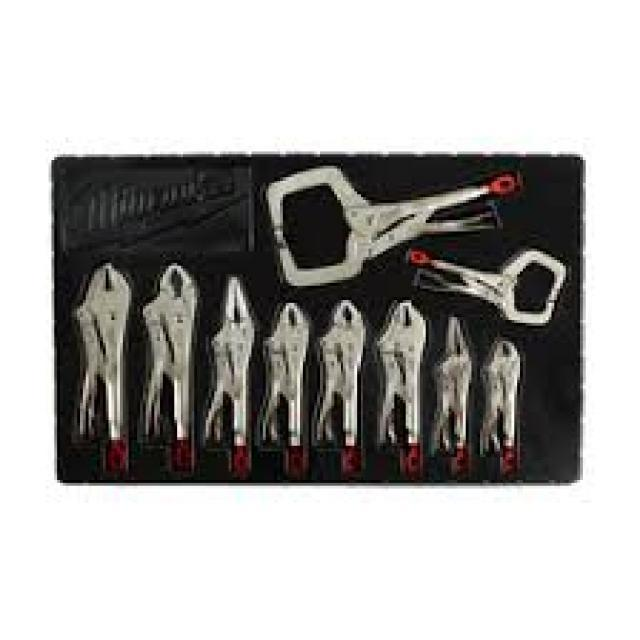pliers: (61, 258, 146, 482), (138, 258, 200, 488), (194, 272, 262, 481), (368, 292, 433, 480), (316, 294, 373, 487), (255, 294, 313, 474), (476, 332, 533, 479), (430, 310, 478, 480)
